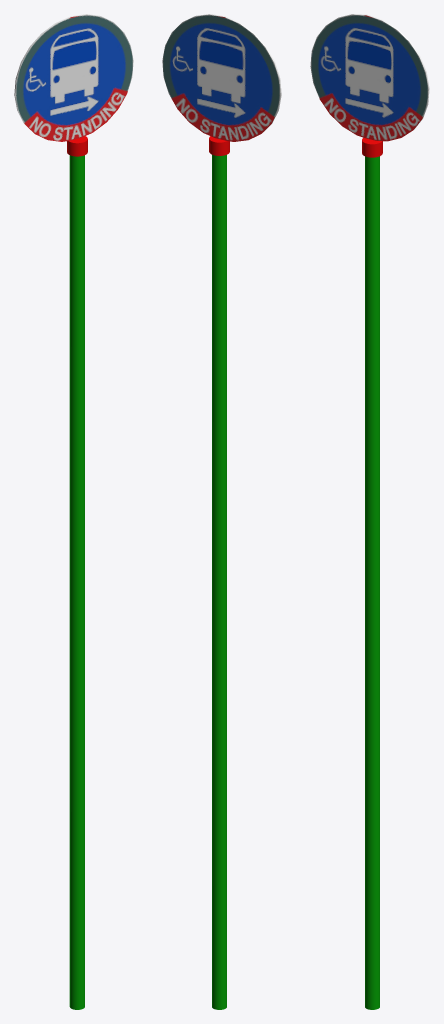
File: bus_stop.glb
3 renders of one model, left to right at view 1: azimuth 30°, elevation 25°; view 2: azimuth 150°, elevation 25°; view 3: azimuth 330°, elevation 25°, orthographic.
Parts seen in each view (by area): view 1: SketchUp, SketchUp.002, SketchUp.004; view 2: SketchUp, SketchUp.001, SketchUp.004; view 3: SketchUp, SketchUp.002, SketchUp.004.
Boxes of the visible parts, box(x1,y1,x2,y2) form: SketchUp: box(69, 155, 84, 1009); SketchUp.002: box(15, 14, 133, 141); SketchUp.004: box(67, 136, 87, 156); SketchUp: box(212, 155, 226, 1009); SketchUp.001: box(162, 14, 280, 141); SketchUp.004: box(209, 136, 229, 155); SketchUp: box(365, 156, 379, 1009); SketchUp.002: box(310, 14, 428, 141); SketchUp.004: box(362, 137, 382, 157).
Size of the model in its own units: 0.4566 by 3.65 by 0.0698.
4 materials, 1 textured.
